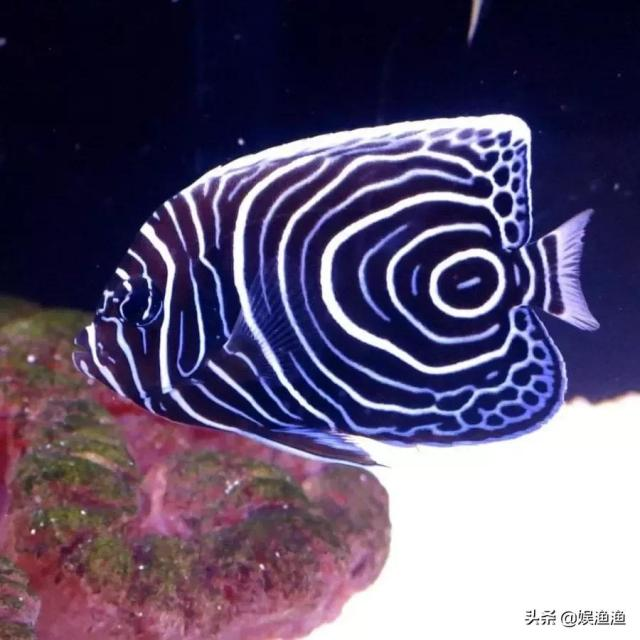AngelFish: (71, 113, 597, 450)
